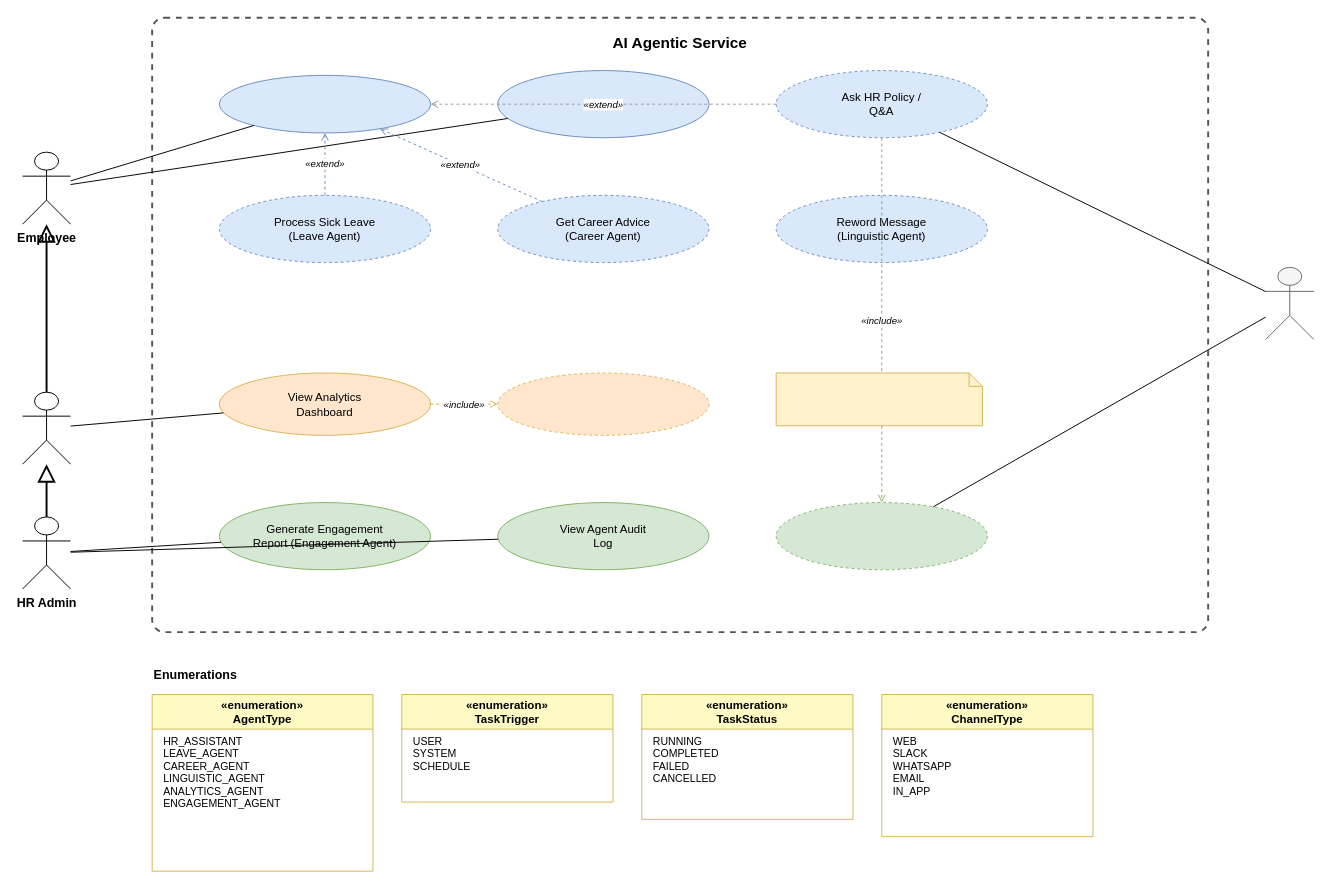
Some shapes in this 1331 by 888 pixel diagram are drawn without their labels. Here are the shapes that lost their labels. From the top down, the centre of each, then its label:
the point at 324,103: Chat with AI Assistant
the point at 603,104: View Conversation History
the point at 1289,302: OpenAI GPT-4o
the point at 603,403: Text-to-SQL Query (Analytics Agent)
the point at 879,399: Agents inherit requesting user's JWT (RBAC enforced)
the point at 46,427: Manager
the point at 881,536: Search Policy Documents (RAG)
